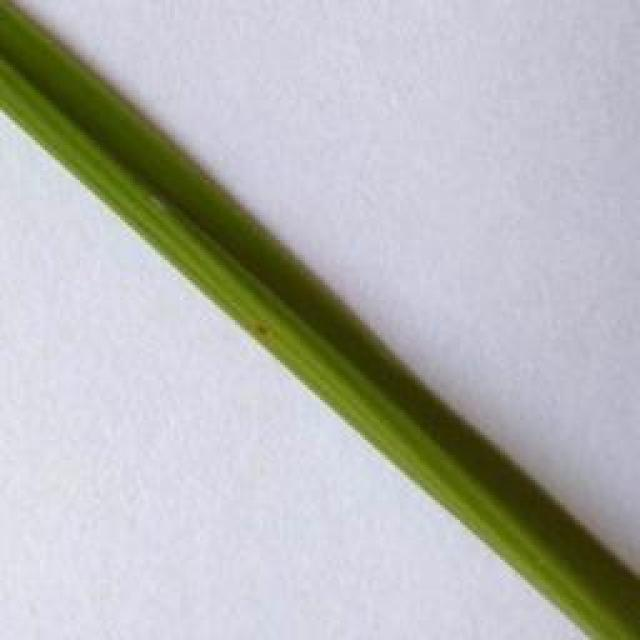Brown_Spot: (248, 304, 280, 353)
